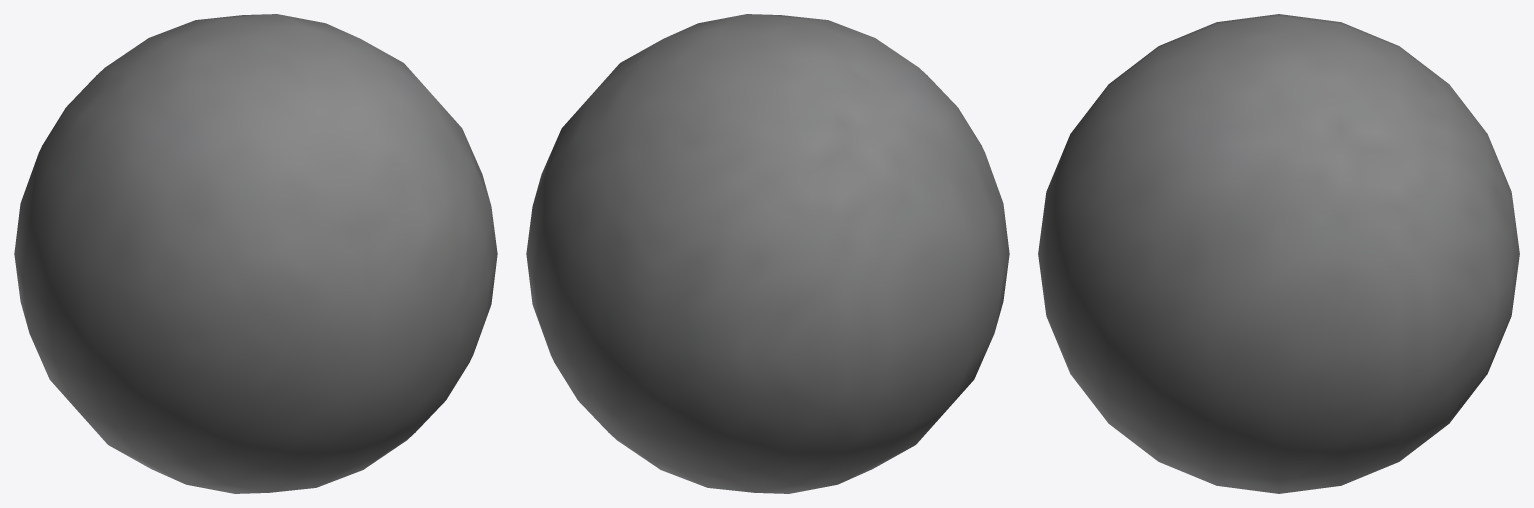
Rendered from small_sphere_tank_bare.obj.
3 views of the same model, side by side, from view 1: azimuth 30°, elevation 25°; view 2: azimuth 150°, elevation 25°; view 3: azimuth 270°, elevation 25° (orthographic).
Visible parts, largest first — view 1: 1; view 2: 1; view 3: 1.
Part boxes in pixels (box(x1,y1,x2,y2)): 1: box(14, 14, 497, 493); 1: box(526, 14, 1009, 493); 1: box(1038, 14, 1519, 493).
Bounding box in the file's own units: 0.25 × 0.25 × 0.25.
